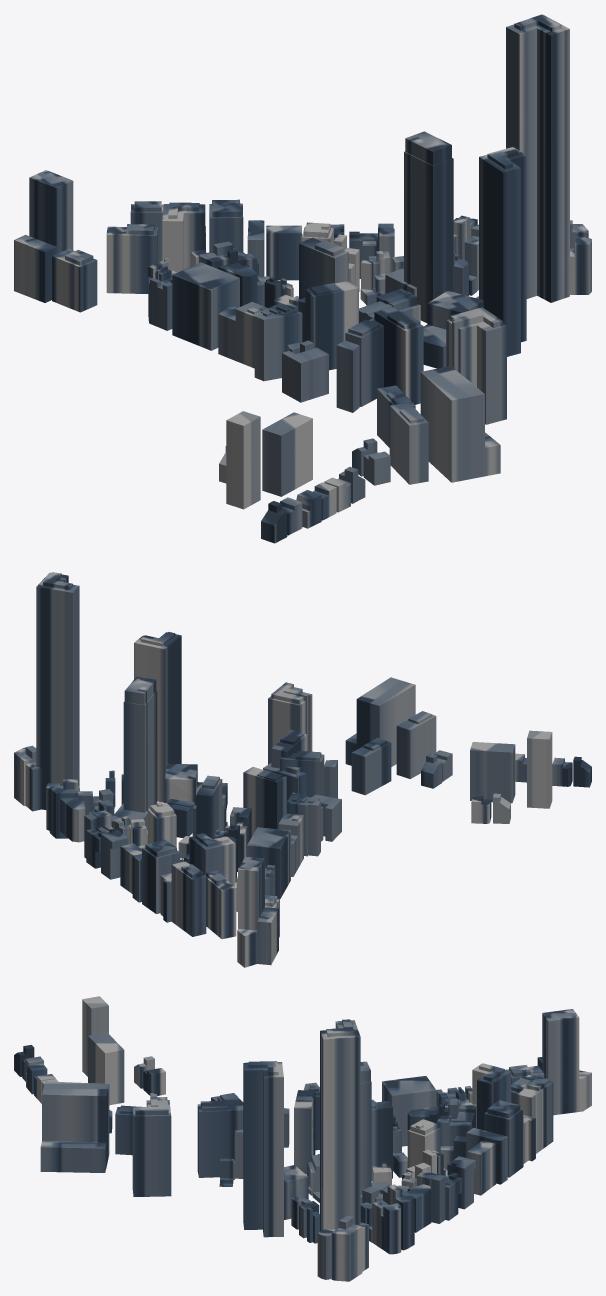
Rendered from vista_release_northeast.glb.
3 renders of one model, top to bottom at view 1: azimuth 30°, elevation 25°; view 2: azimuth 150°, elevation 25°; view 3: azimuth 270°, elevation 25°, orthographic. The views are drawn at different scales.
Visible parts, largest first — view 1: world; view 2: world; view 3: world.
Part boxes in pixels (x1,y1,x2,y2): world: (14, 14, 591, 543); world: (14, 572, 591, 967); world: (14, 996, 591, 1281).
Size of the model in its own units: 68094 by 34742 by 77815.
1 material, 1 textured.
